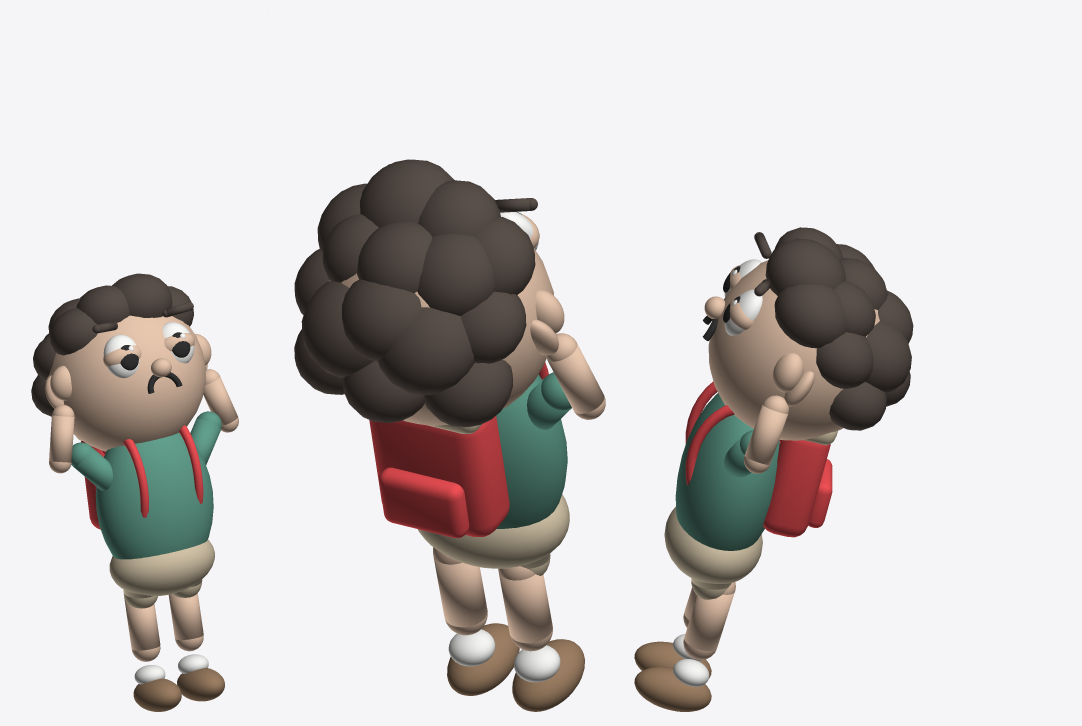
The model's file is aventurero.glb.
3 renders of one model, left to right at view 1: azimuth 30°, elevation 25°; view 2: azimuth 150°, elevation 25°; view 3: azimuth 270°, elevation 25°, orthographic. The views are drawn at different scales.
Parts seen in each view (by area): view 1: Head, Torso, Shorts, Hair8, Hair11, ShinR, ShinL, Hair9, ForearmR, UpperArmR, BootR, ForearmL (+15 smaller); view 2: PackBody, Torso, Hair7, Hair2, PackPocket, Shorts, Hair5, Hair8, Hair0, Hair14, Hair6, ShinR (+19 smaller); view 3: Head, Torso, PackBody, Hair10, Shorts, Hair8, Hair3, Hair6, BootL, ShinL, ForearmL, Hair13 (+11 smaller).
Boxes of the visible parts, x1=… form: Head: x1=46, y1=315, x2=205, y2=451; Torso: x1=95, y1=433, x2=213, y2=559; Shorts: x1=109, y1=539, x2=214, y2=596; Hair8: x1=112, y1=273, x2=172, y2=317; Hair11: x1=49, y1=307, x2=97, y2=355; ShinR: x1=124, y1=596, x2=160, y2=661; ShinL: x1=168, y1=593, x2=203, y2=651; Hair9: x1=76, y1=285, x2=129, y2=324; ForearmR: x1=49, y1=405, x2=74, y2=473; UpperArmR: x1=71, y1=442, x2=112, y2=490; BootR: x1=133, y1=678, x2=181, y2=711; ForearmL: x1=203, y1=369, x2=238, y2=432; PackBody: x1=369, y1=416, x2=509, y2=536; Torso: x1=496, y1=374, x2=567, y2=528; Hair7: x1=377, y1=307, x2=474, y2=394; Hair2: x1=417, y1=234, x2=495, y2=315; PackPocket: x1=379, y1=467, x2=469, y2=537; Shorts: x1=417, y1=494, x2=569, y2=568; Hair5: x1=342, y1=279, x2=421, y2=361; Hair8: x1=359, y1=159, x2=454, y2=227; Hair0: x1=356, y1=222, x2=432, y2=292; Hair14: x1=424, y1=360, x2=512, y2=426; Hair6: x1=301, y1=281, x2=373, y2=377; ShinR: x1=498, y1=566, x2=552, y2=651; Head: x1=708, y1=260, x2=879, y2=440; Torso: x1=675, y1=393, x2=779, y2=550; PackBody: x1=763, y1=440, x2=830, y2=537; Hair10: x1=774, y1=284, x2=846, y2=348; Shorts: x1=664, y1=506, x2=762, y2=583; Hair8: x1=765, y1=238, x2=845, y2=295; Hair3: x1=816, y1=332, x2=873, y2=388; Hair6: x1=865, y1=321, x2=911, y2=392; BootL: x1=634, y1=667, x2=711, y2=711; ShinL: x1=683, y1=582, x2=735, y2=659; ForearmL: x1=744, y1=395, x2=788, y2=473; Hair13: x1=829, y1=382, x2=886, y2=430.
Bounding box in the file's own units: 1.04 × 3.03 × 1.74.
